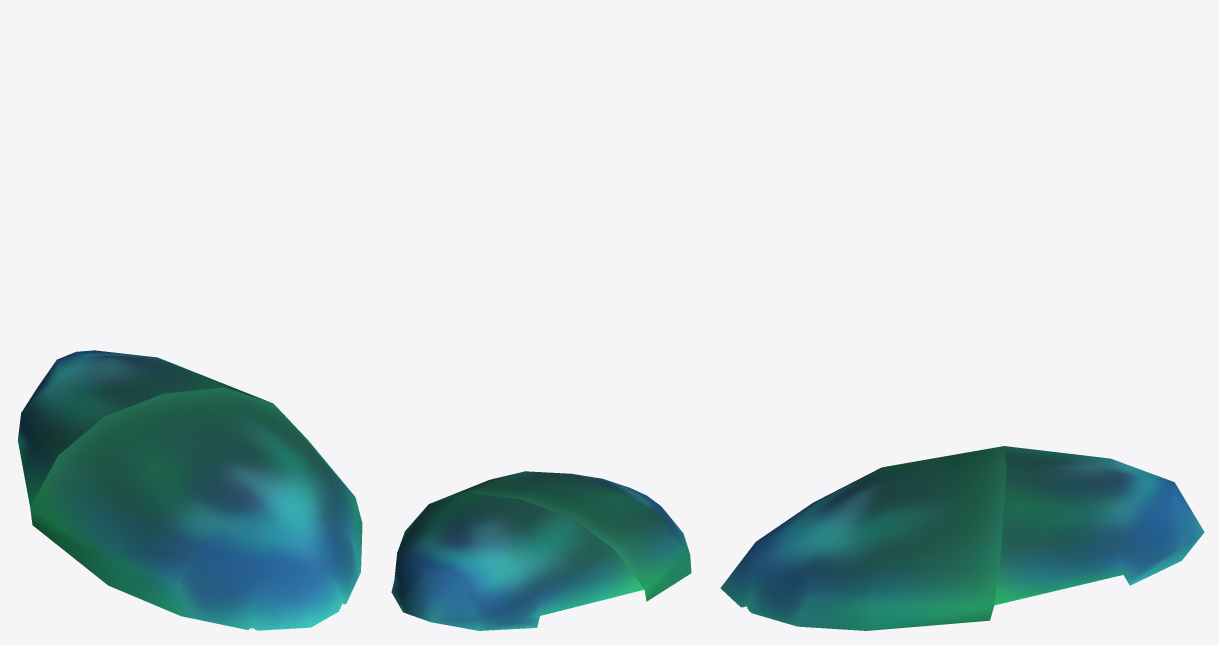
Rendered from disc-4_glass.DAE.
3 views of the same model, side by side, from view 1: azimuth 30°, elevation 25°; view 2: azimuth 150°, elevation 25°; view 3: azimuth 270°, elevation 25° (orthographic). The views are drawn at different scales.
Parts seen in each view (by area): view 1: Object01; view 2: Object01; view 3: Object01.
Boxes of the visible parts, x1,y1,x2,y2 form: Object01: [18, 350, 362, 630]; Object01: [391, 471, 691, 630]; Object01: [720, 446, 1204, 630].
Bounding box in the file's own units: 1.77 × 3.58 × 2.77.
